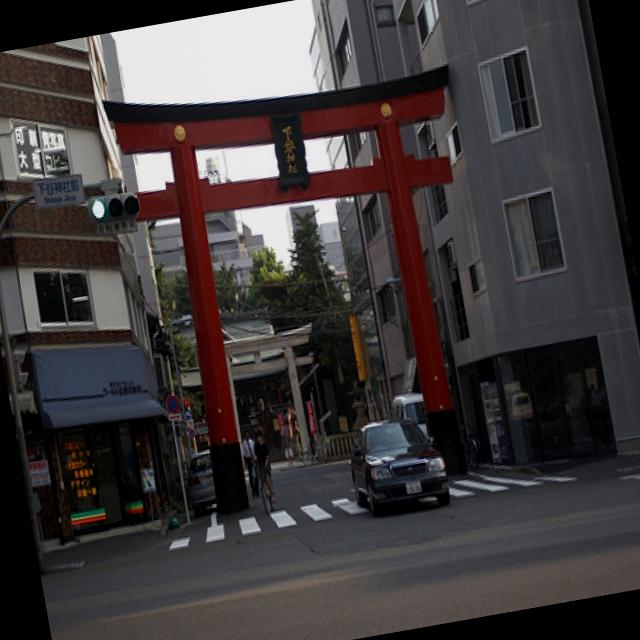Vehicle: (343, 412, 453, 522), (180, 448, 222, 516), (386, 388, 430, 443)
